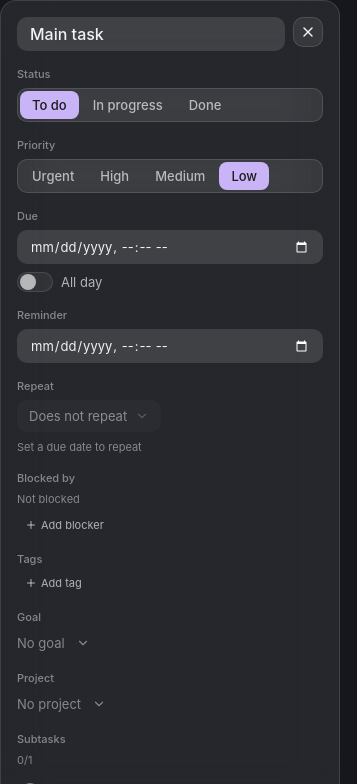
TaskDetailPanel: blocked by › adds a blocker by searching, arrow keys and Enter
The width and height of the screenshot is (357, 784).
Expected: the field named "Title" is shown, [17,17,285,51]
Click the button "Add blocker" at [64, 525], box [17,515,112,535]
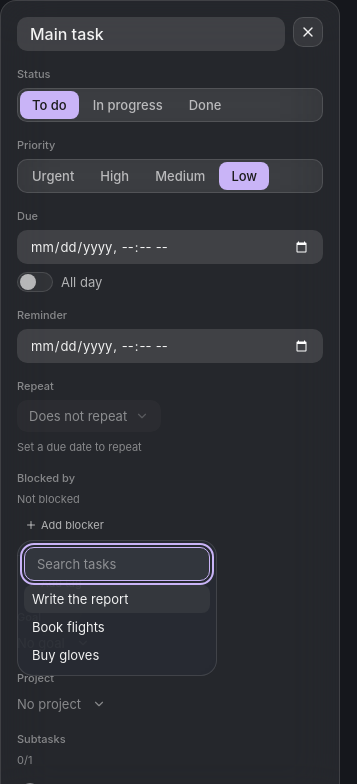
Type "B" into the field labelled "Search tasks" at [117, 564], box [24,547,210,581]
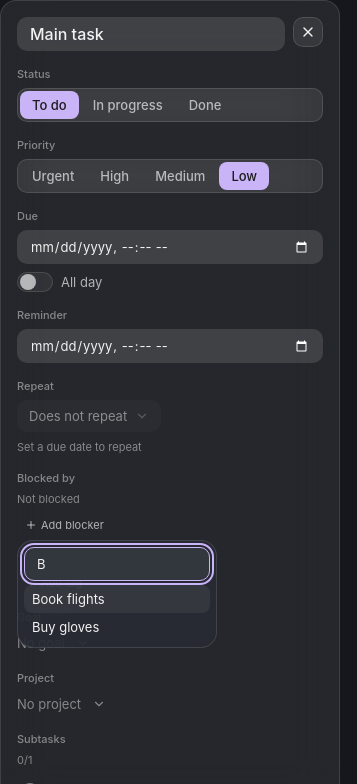
Now the menu items read "Book flights", "Buy gloves", in this order, box [24,585,210,613]; [24,613,210,641]
Replace the text in the field named "Search tasks" with "report" at [117, 564], box [24,547,210,581]
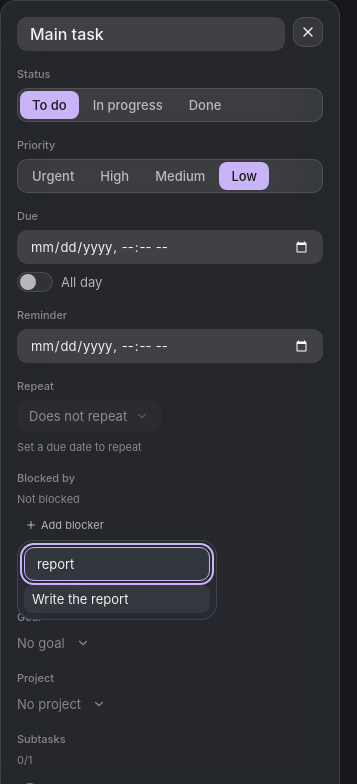
Press Enter
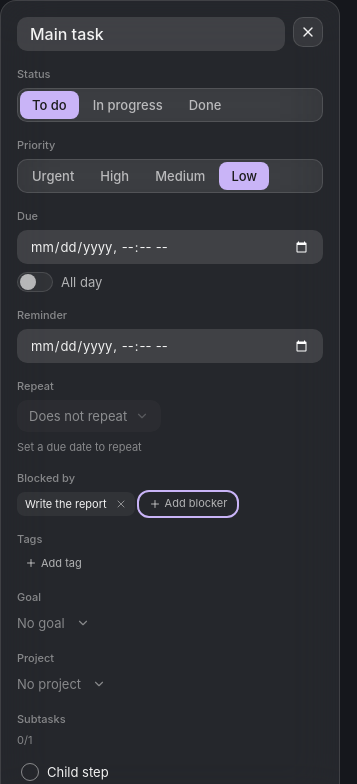
Now the button named "Remove blocker Write the report" is shown, box [111,494,131,514]
Now the menu is gone
